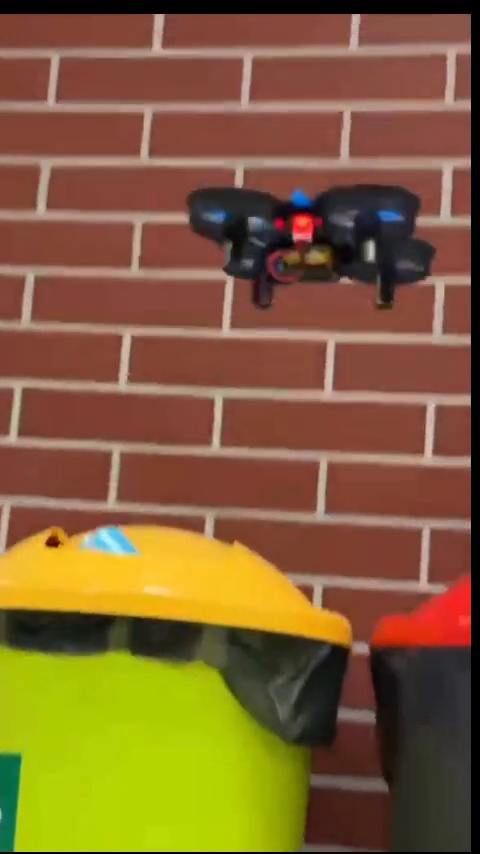drone: (174, 187, 441, 314)
